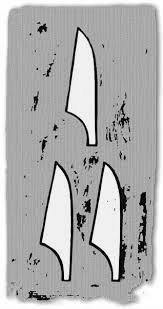Reed: (62, 25, 105, 147), (37, 162, 77, 281), (88, 160, 125, 281)
